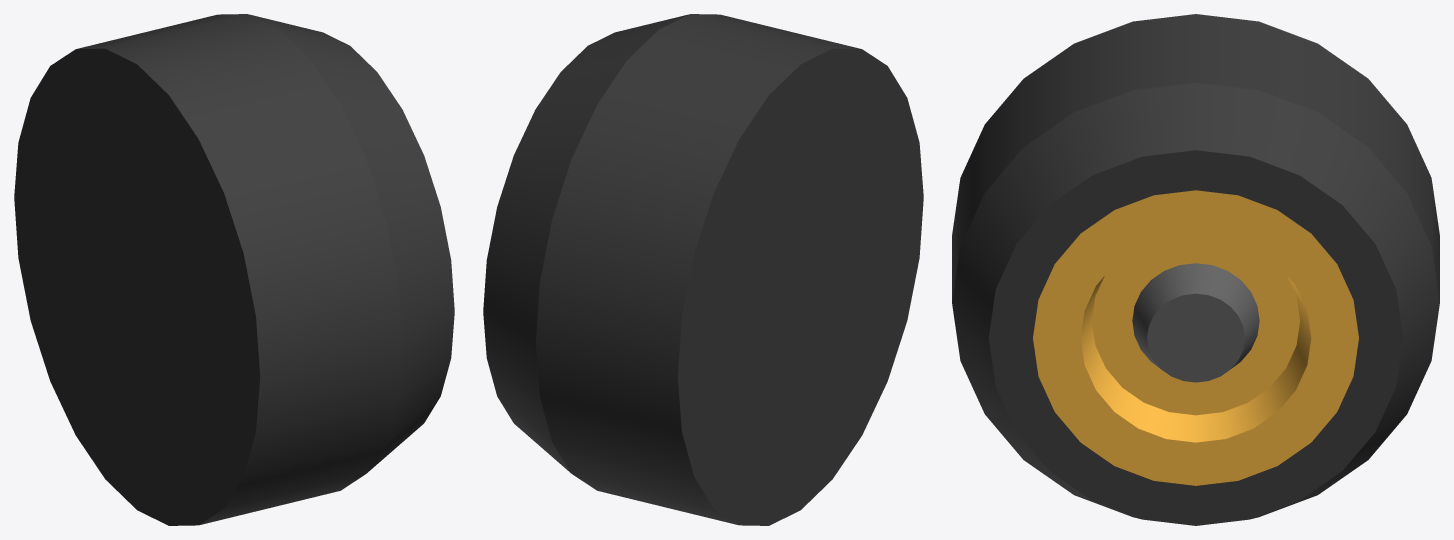
File: wheelTractorBack.fbx
3 views of the same model, side by side, from view 1: azimuth 30°, elevation 25°; view 2: azimuth 150°, elevation 25°; view 3: azimuth 270°, elevation 25° (orthographic).
Parts seen in each view (by area): view 1: wheelTractorBack; view 2: wheelTractorBack; view 3: wheelTractorBack.
Part boxes in pixels (box(x1,y1,x2,y2)): wheelTractorBack: box(14, 14, 454, 525); wheelTractorBack: box(483, 14, 923, 525); wheelTractorBack: box(952, 14, 1439, 525).
Size of the model in its own units: 4.38 by 8.75 by 8.75.
